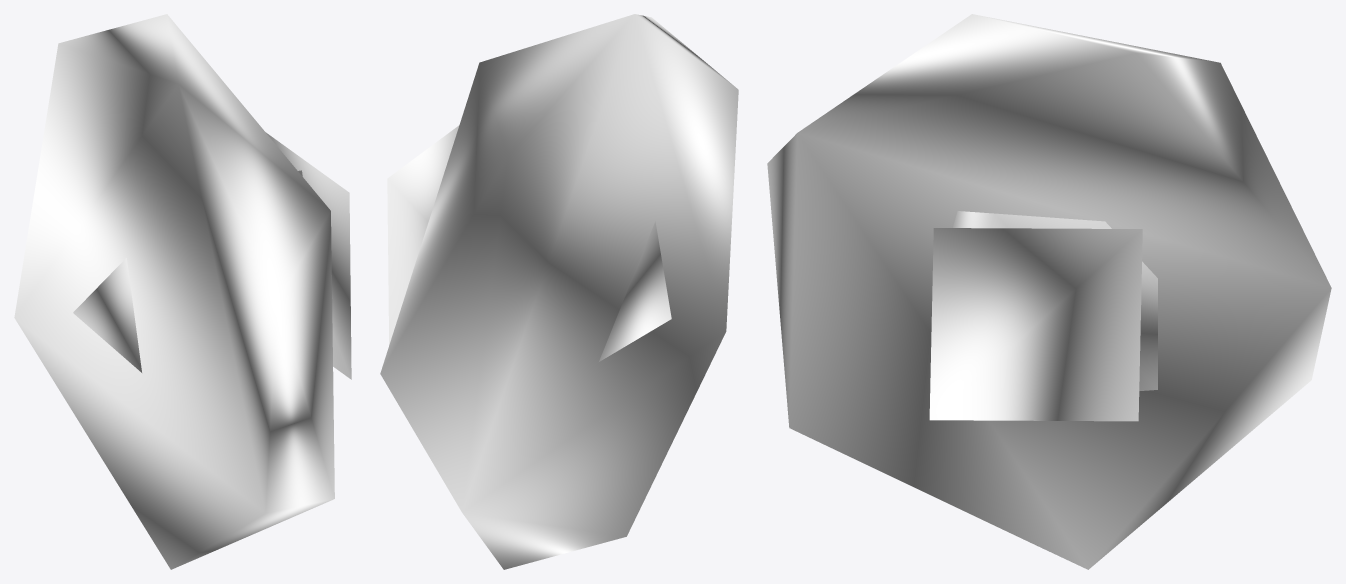
3 renders of one model, left to right at view 1: azimuth 30°, elevation 25°; view 2: azimuth 150°, elevation 25°; view 3: azimuth 270°, elevation 25°, orthographic. The views are drawn at different scales.
Size of the model in its own units: 0.1353 by 0.3459 by 0.3392.
Materials: 1 (1 with a texture image).
